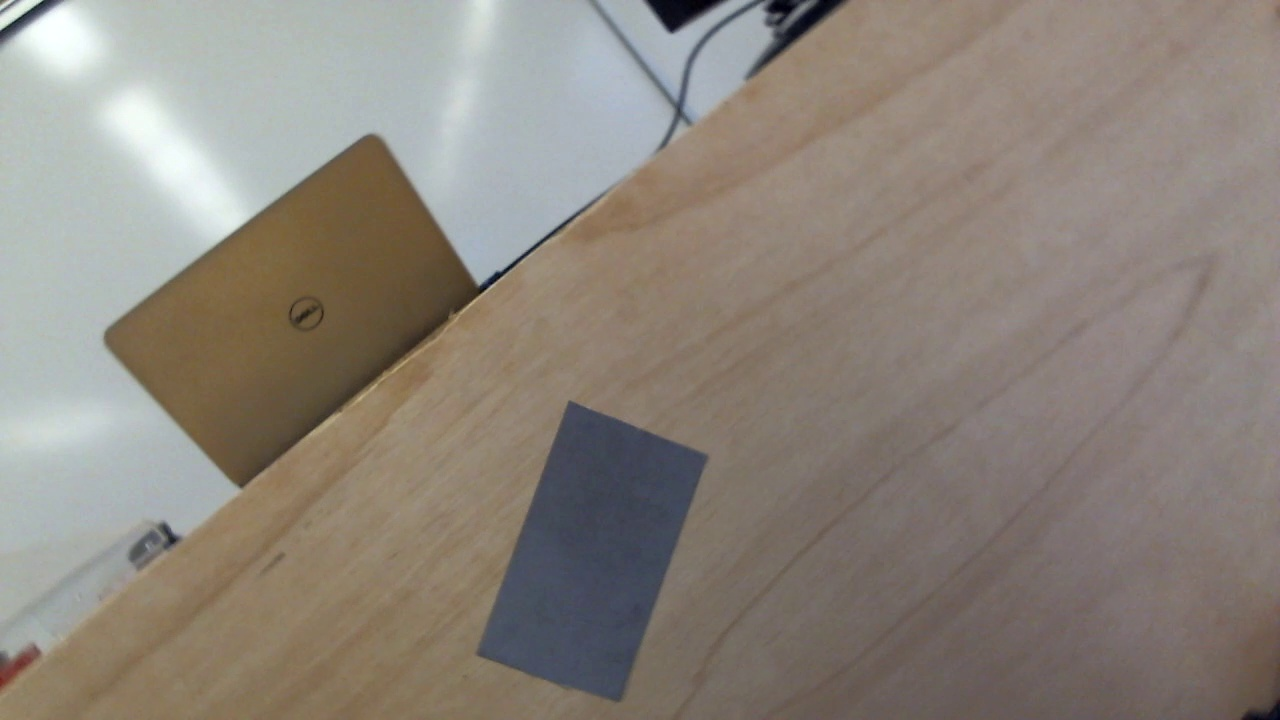Tape: (476, 401, 709, 703)
